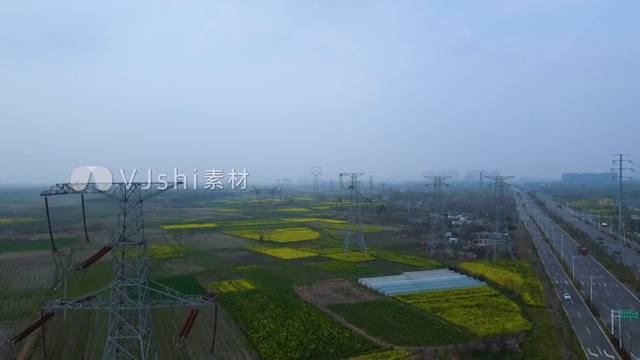tower_body: (29, 174, 199, 358), (484, 171, 518, 257), (338, 171, 369, 247), (422, 174, 448, 253)
tower_foot: (98, 318, 152, 358)
tower_head: (32, 178, 196, 197)
